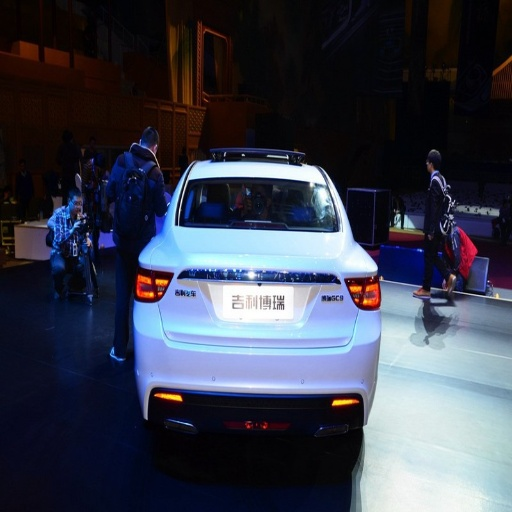back_bumper: (112, 300, 377, 426)
tailgate: (209, 230, 354, 346)
